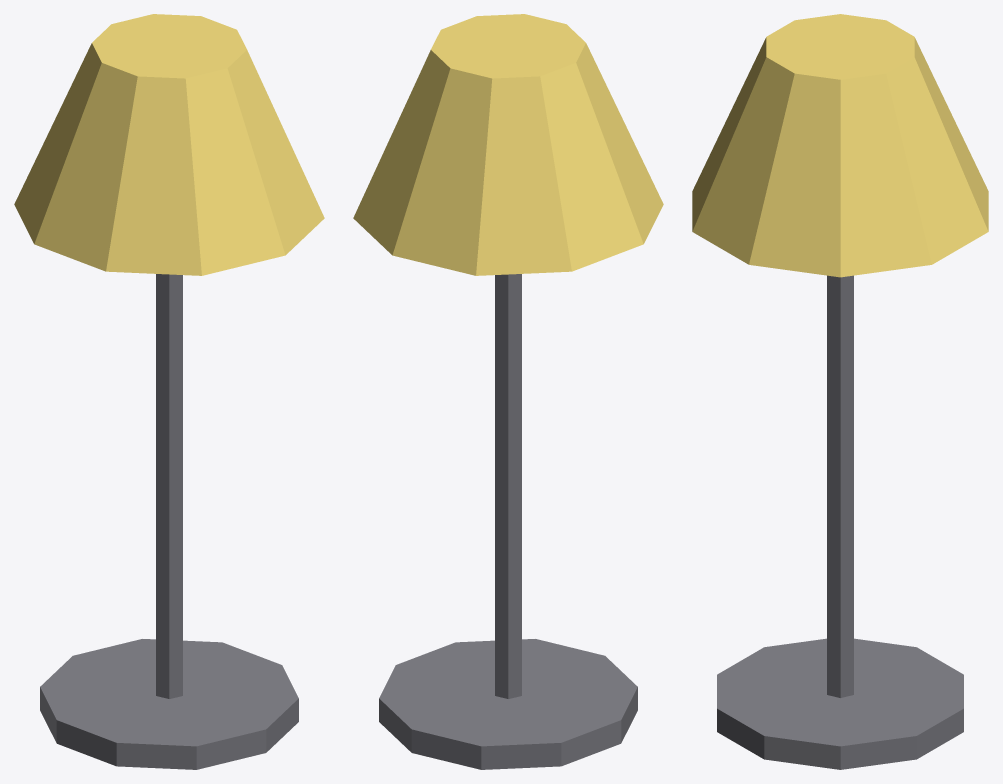
The model's file is lampara.glb.
3 renders of one model, left to right at view 1: azimuth 30°, elevation 25°; view 2: azimuth 150°, elevation 25°; view 3: azimuth 270°, elevation 25°, orthographic.
Visible parts, largest first — view 1: lampara; view 2: lampara; view 3: lampara.
Boxes of the visible parts, x1,y1,x2,y2 form: lampara: (14,14,324,769); lampara: (353,14,663,769); lampara: (692,14,988,769).
Size of the model in its own units: 0.6 by 1.42 by 0.5706.
